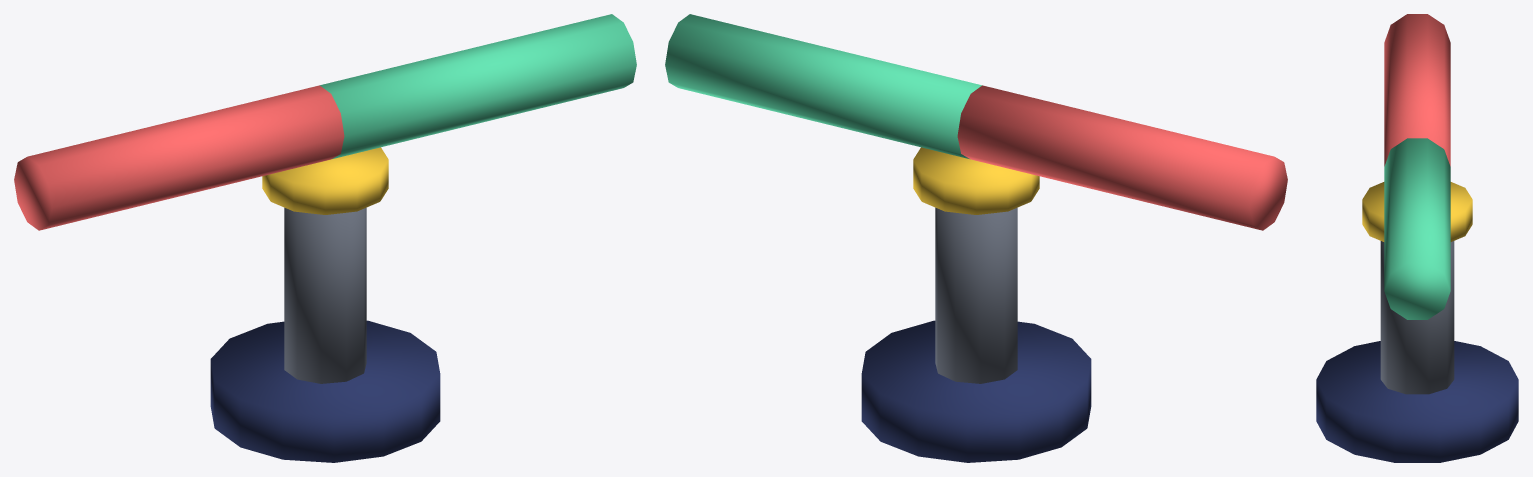
Rendered from obstacle_spinner.glb.
3 views of the same model, side by side, from view 1: azimuth 30°, elevation 25°; view 2: azimuth 150°, elevation 25°; view 3: azimuth 270°, elevation 25° (orthographic). The views are drawn at different scales.
Parts seen in each view (by area): view 1: Spinner_Bar, Spinner_Post; view 2: Spinner_Bar, Spinner_Post; view 3: Spinner_Post, Spinner_Bar.
Part boxes in pixels (<box>): Spinner_Bar: <box>14,14,636,230</box>; Spinner_Post: <box>210,147,440,462</box>; Spinner_Bar: <box>665,14,1287,230</box>; Spinner_Post: <box>861,147,1091,462</box>; Spinner_Post: <box>1316,182,1518,462</box>; Spinner_Bar: <box>1384,14,1450,319</box>.
Size of the model in its own units: 3.2 by 1.7 by 1.1.
